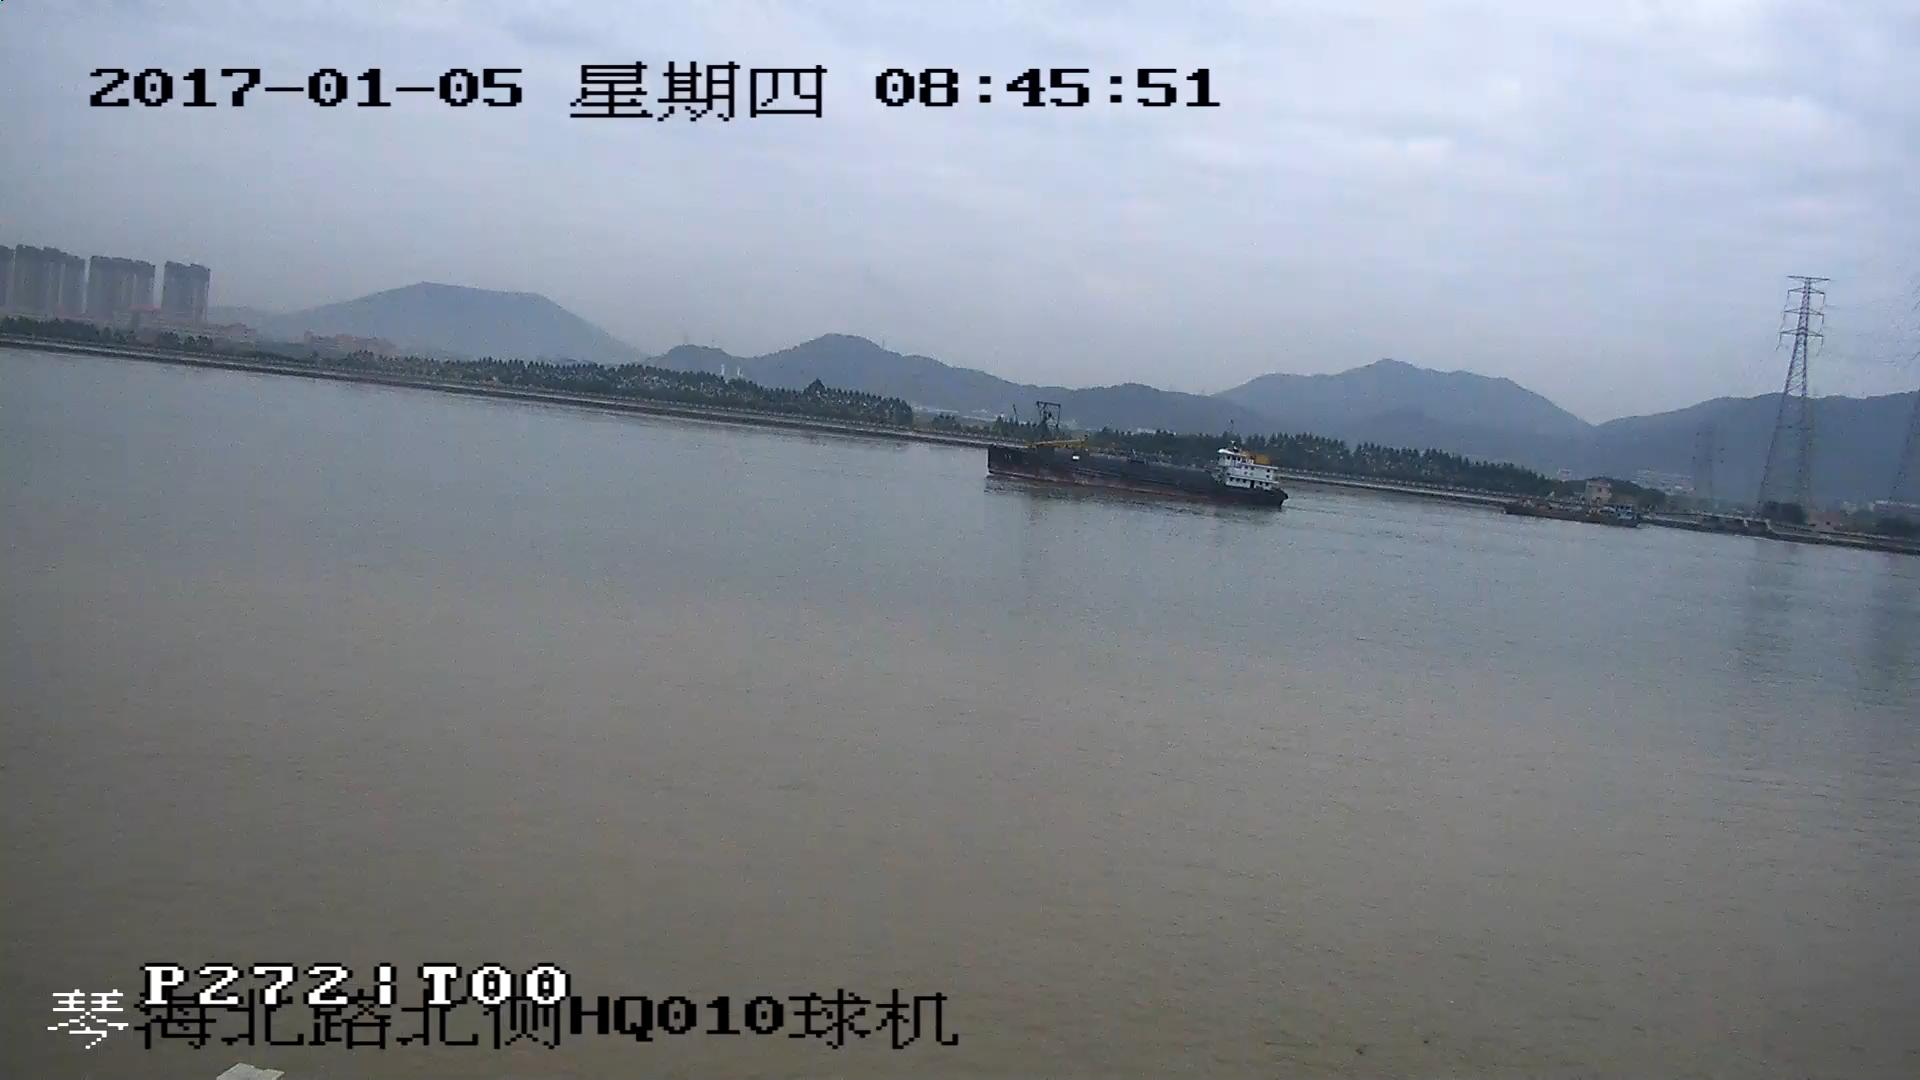bulk cargo carrier: (987, 404, 1277, 511)
